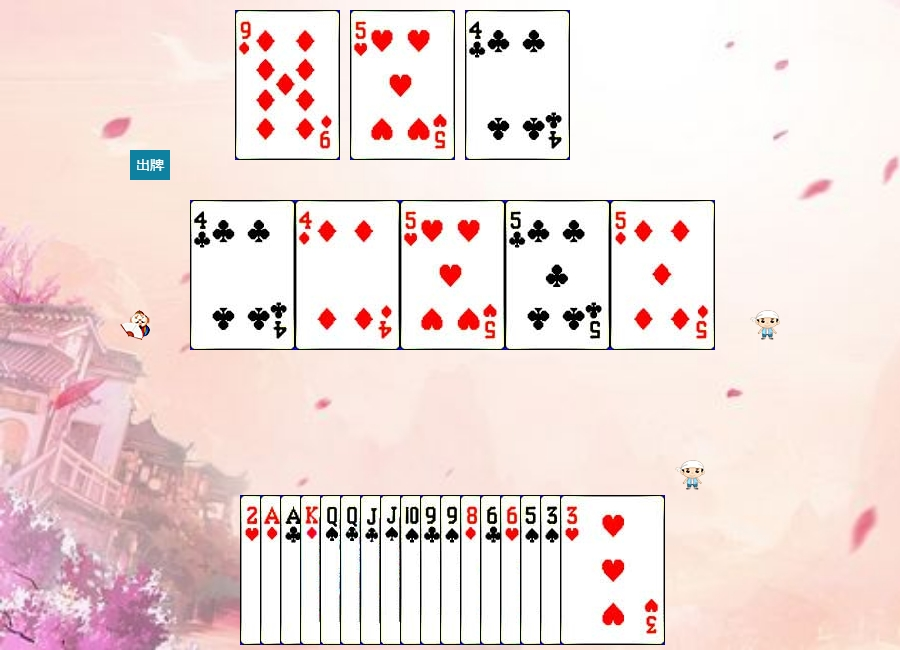10~4: (400, 495, 505, 645)
11~2: (360, 495, 465, 645)
11~4: (380, 495, 485, 645)
12~2: (340, 495, 445, 645)
12~4: (320, 495, 425, 645)
13~1: (300, 495, 405, 645)
14~1: (260, 495, 365, 645)
14~2: (280, 495, 385, 645)
15~3: (240, 495, 345, 645)
3~3: (560, 495, 665, 645)
3~4: (540, 495, 645, 645)
4~1: (295, 200, 400, 350)
4~2: (465, 10, 570, 160), (190, 200, 295, 350)
5~1: (610, 200, 715, 350)
5~2: (505, 200, 610, 350)
5~3: (350, 10, 455, 160), (400, 200, 505, 350)
5~4: (520, 495, 625, 645)
6~2: (480, 495, 585, 645)
6~3: (500, 495, 605, 645)
8~1: (460, 495, 565, 645)
9~1: (235, 10, 340, 160)
9~2: (420, 495, 525, 645)
9~4: (440, 495, 545, 645)
